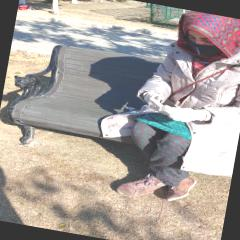gloved: (140, 89, 174, 116), (160, 104, 200, 125)
